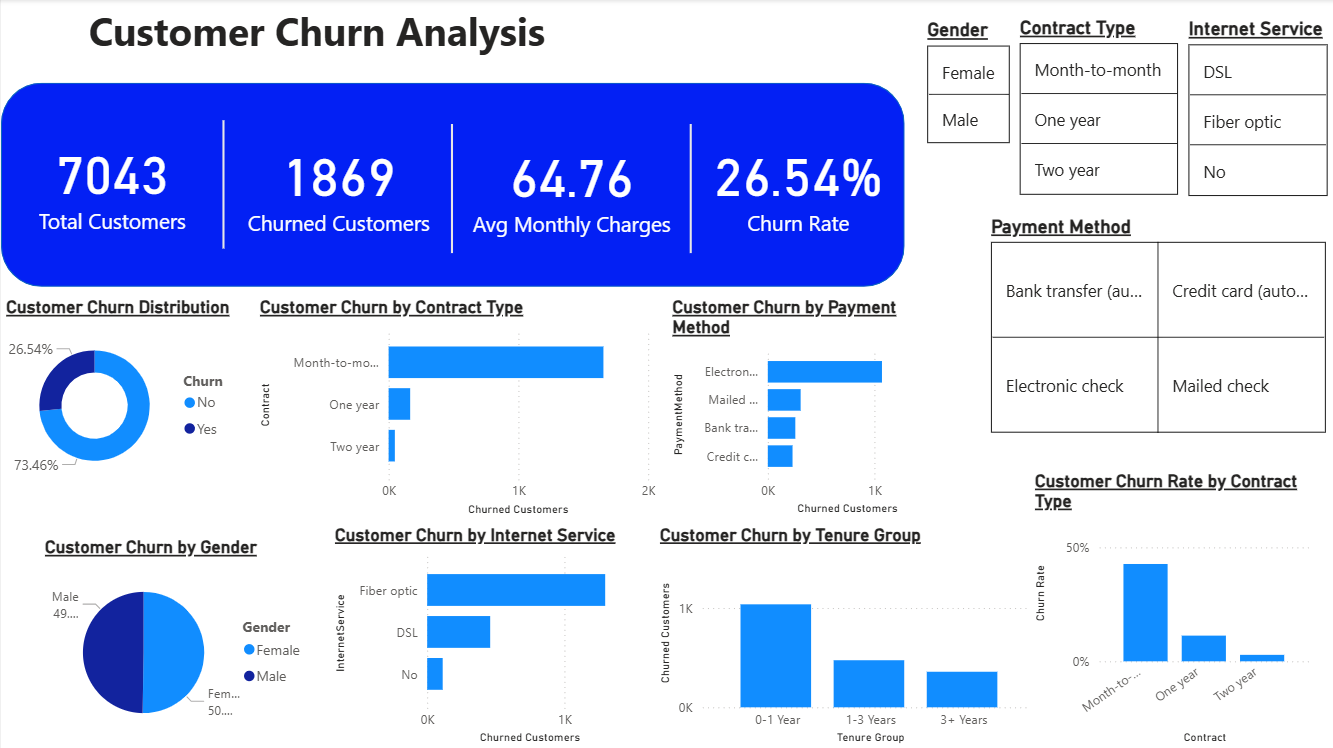

Layout of this report page (visuals, bound fields, positions):
{"tool":"powerbi","page":{"name":"Page 1","canvas":[1280,720],"ordinal":0},"visuals":[{"type":"shape","box":[0,80,868,196],"z":0},{"type":"clusteredBarChart","title":" Customer Churn by Contract Type","fields":{"Category":["customers.Contract"],"Y":["customers.Churned Customers"]},"box":[243.8,285.4,390.1,215.2],"z":1000},{"type":"pieChart","title":" Customer Churn by Gender","fields":{"Category":["customers.gender"],"Y":["customers.Churned Customers"]},"box":[37.7,516.2,265.8,204.1],"z":2000},{"type":"clusteredBarChart","title":" Customer Churn by Payment Method","fields":{"Y":["customers.Churned Customers"],"Category":["customers.PaymentMethod"]},"box":[639.7,285.4,262.4,214.4],"z":3000},{"type":"clusteredBarChart","title":"Customer Churn by Internet Service","fields":{"Category":["customers.InternetService"],"Y":["customers.Churned Customers"]},"box":[315.5,504.2,303.5,216.1],"z":4000},{"type":"clusteredColumnChart","title":"Customer Churn by Tenure Group","fields":{"Category":["customers.Tenure Group"],"Y":["customers.Churned Customers"]},"box":[627.7,504.2,373.9,216.1],"z":5000},{"type":"donutChart","title":" Customer Churn Distribution","fields":{"Y":["customers.Total Customers"],"Category":["customers.Churn"]},"box":[0,285.4,238.1,190.8],"z":6000},{"type":"advancedSlicerVisual","title":"Gender","fields":{"Values":["customers.gender"]},"box":[868,18.9,93.3,122.7],"z":7000},{"type":"advancedSlicerVisual","title":"Contract Type","fields":{"Values":["customers.Contract"]},"box":[961.8,16.8,163.3,178.9],"z":8000},{"type":"advancedSlicerVisual","title":"Payment Method","fields":{"Values":["customers.PaymentMethod"]},"box":[946.6,207.5,332.7,214.4],"z":9000},{"type":"advancedSlicerVisual","title":"Internet Service","fields":{"Values":["customers.InternetService"]},"box":[1123.9,19.2,154.9,178.9],"z":10000},{"type":"card","fields":{"Values":["customers.Churn Rate"]},"box":[663.7,80.6,204.1,195.5],"z":11000},{"type":"card","fields":{"Values":["customers.Churned Customers"]},"box":[214.4,80.6,219.5,195.5],"z":12000},{"type":"card","fields":{"Values":["customers.Total Customers"]},"box":[0,77.2,214.4,198.9],"z":13000},{"type":"card","fields":{"Values":["customers.Avg Monthly Charges"]},"box":[431.7,81.8,232.4,195.1],"z":14000},{"type":"shape","box":[560,120,206,124],"z":15000},{"type":"shape","box":[330,120,206,124],"z":16000},{"type":"shape","box":[111.5,116.6,204.1,123.5],"z":17000},{"type":"clusteredColumnChart","title":"Customer Churn Rate by Contract Type","fields":{"Y":["customers.Churn Rate"],"Category":["customers.Contract"]},"box":[987.8,452.7,274.4,267.5],"z":18000},{"type":"textbox","box":[79.2,0,457.5,78],"z":18001}]}

Visuals, with their boxes in screenshot pixels (x1, y1, x2, y2), scaled from the page's 1280x720 canvas onto the 1333x748 screenshot:
shape: x1=0, y1=83, x2=904, y2=287
" Customer Churn by Contract Type" clusteredBarChart: x1=254, y1=296, x2=660, y2=520
" Customer Churn by Gender" pieChart: x1=39, y1=536, x2=316, y2=747
" Customer Churn by Payment Method" clusteredBarChart: x1=666, y1=296, x2=939, y2=519
"Customer Churn by Internet Service" clusteredBarChart: x1=329, y1=524, x2=645, y2=747
"Customer Churn by Tenure Group" clusteredColumnChart: x1=654, y1=524, x2=1043, y2=747
" Customer Churn Distribution" donutChart: x1=0, y1=296, x2=248, y2=495
"Gender" advancedSlicerVisual: x1=904, y1=20, x2=1001, y2=147
"Contract Type" advancedSlicerVisual: x1=1002, y1=17, x2=1172, y2=203
"Payment Method" advancedSlicerVisual: x1=986, y1=216, x2=1332, y2=438
"Internet Service" advancedSlicerVisual: x1=1170, y1=20, x2=1332, y2=206
card - customers.Churn Rate: x1=691, y1=84, x2=904, y2=287
card - customers.Churned Customers: x1=223, y1=84, x2=452, y2=287
card - customers.Total Customers: x1=0, y1=80, x2=223, y2=287
card - customers.Avg Monthly Charges: x1=450, y1=85, x2=692, y2=288
shape: x1=583, y1=125, x2=798, y2=253
shape: x1=344, y1=125, x2=558, y2=253
shape: x1=116, y1=121, x2=329, y2=249
"Customer Churn Rate by Contract Type" clusteredColumnChart: x1=1029, y1=470, x2=1314, y2=747
textbox: x1=82, y1=0, x2=559, y2=81
